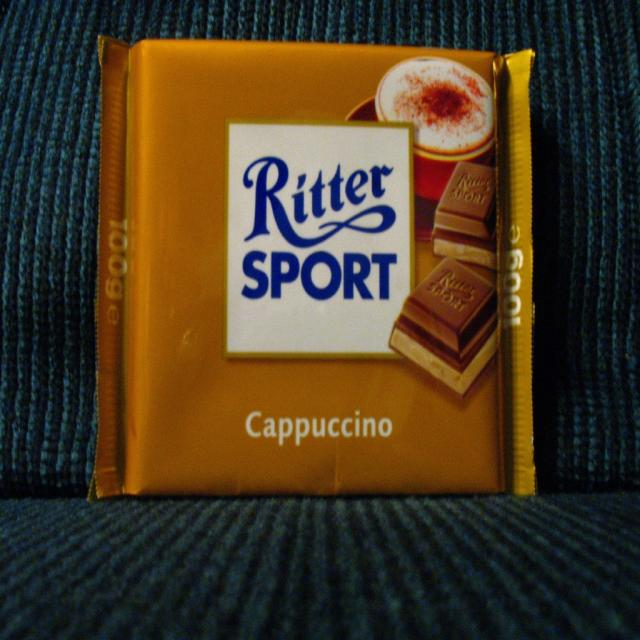rittersport: (224, 117, 419, 360)
